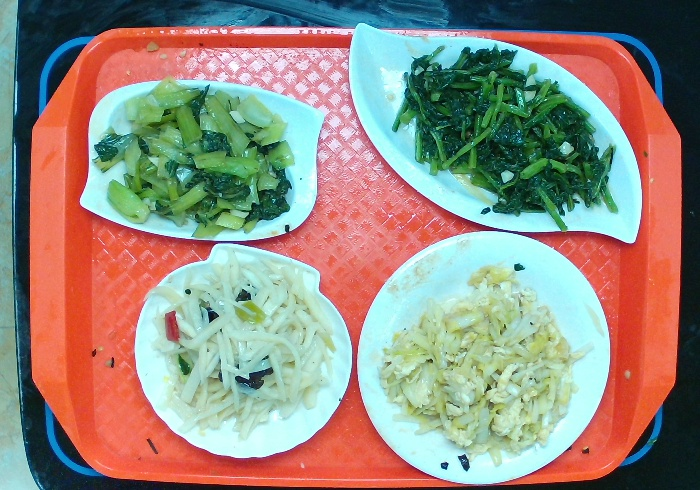RJxy-Bei_Ke_Wan: (136, 245, 350, 459)
RJxy-Jian_Jiao_Fang_Die: (79, 80, 328, 238)
RJxy-Jian_Jiao_Pan: (352, 35, 645, 243)
RJxy-Yuan_Pan: (356, 218, 612, 483)
